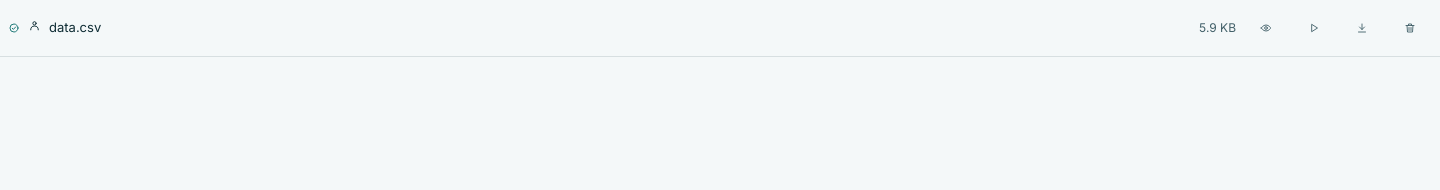
BlobRow structural self-disclosure (T-3) › shows row count and column names for a well-formed CSV, as real accessible text
What coordinates should you click on to do the following:
click the button named "preview data.csv"
I would click on:
 (1266, 28)
Its box is 1244,6 -> 1288,50.
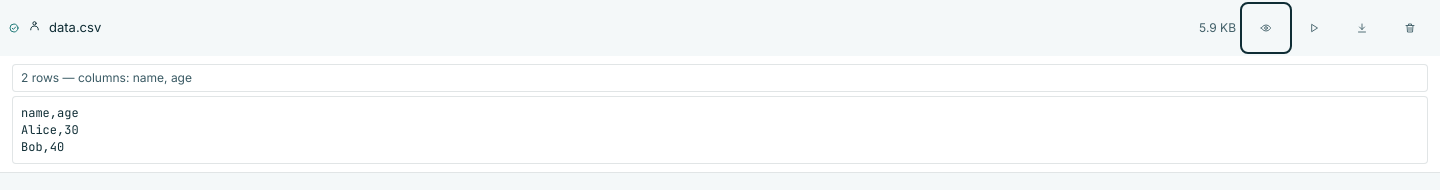
Expected: the element with test id "blob-row-structure" shows "2 rows", 21,70 -> 192,85
Expected: the element with test id "blob-row-structure" shows "columns: name, age", 21,70 -> 192,85
